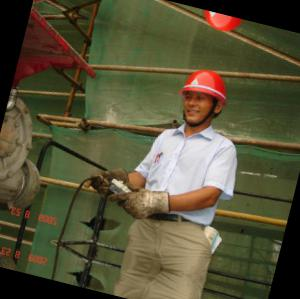helmet: (165, 59, 245, 140), (188, 7, 258, 44)
